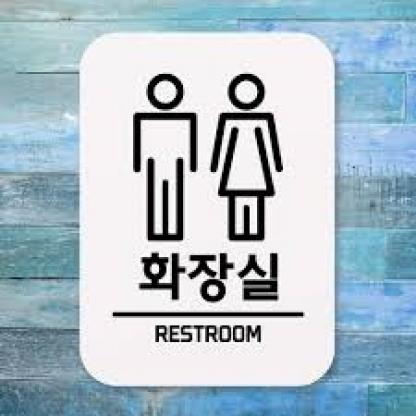toilet: (124, 66, 291, 247)
